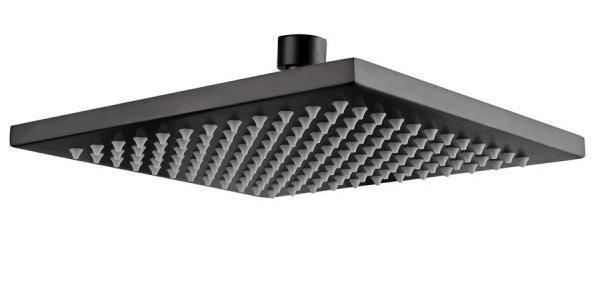Ducha: (4, 31, 599, 226)
